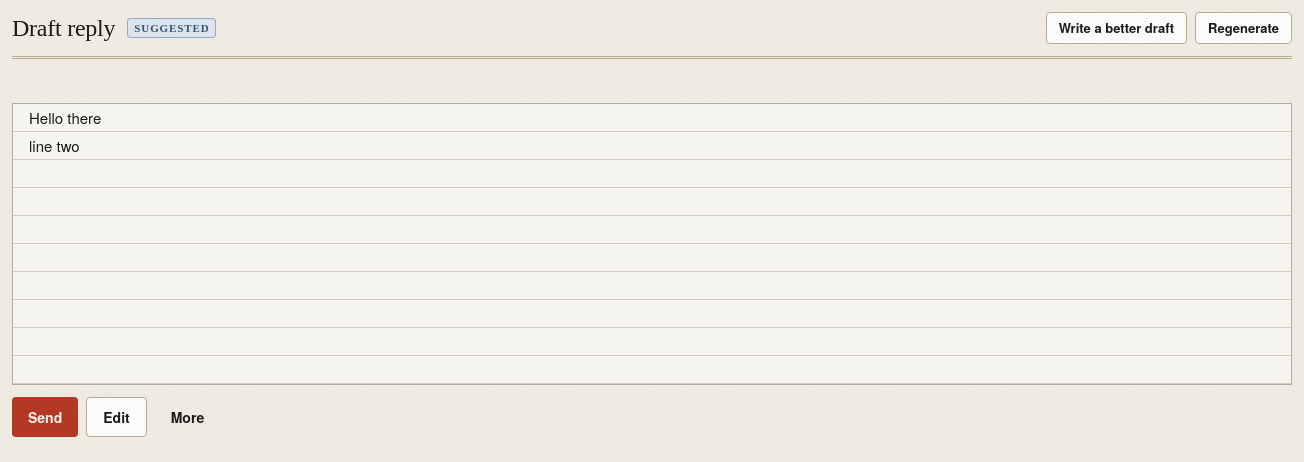
Test case: DraftPanel › send and undo › shows "Sending in 30 s · Undo" after sending, and Undo cancels it
The image size is (1304, 462).
Click the button "Send" at (45, 417), box [12,397,78,437]
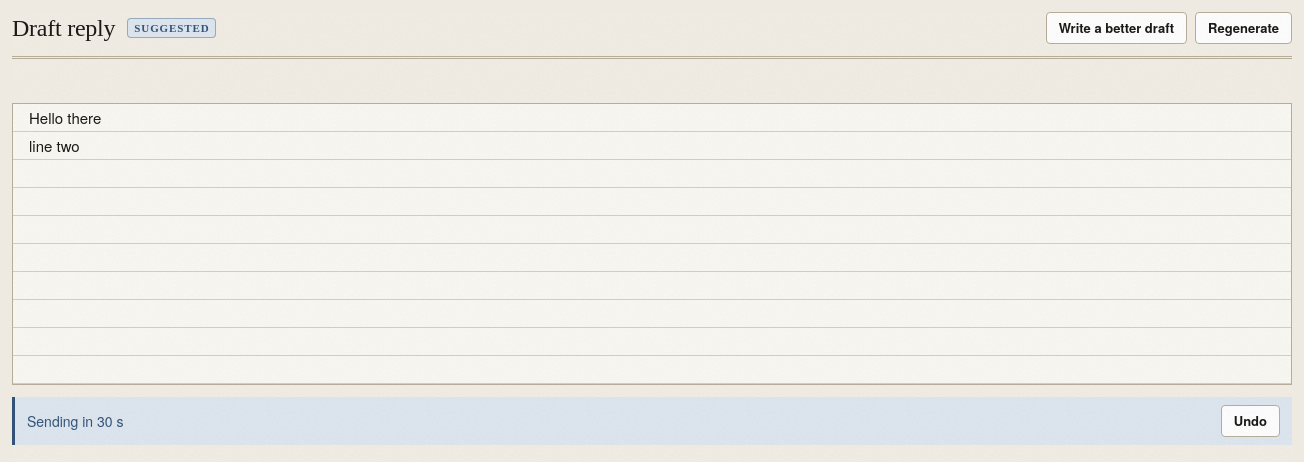
Expected: the text "Sending in 30 s" is shown, [27,411,124,431]
Click the button "Undo" at (1250, 421), box [1221,405,1280,437]
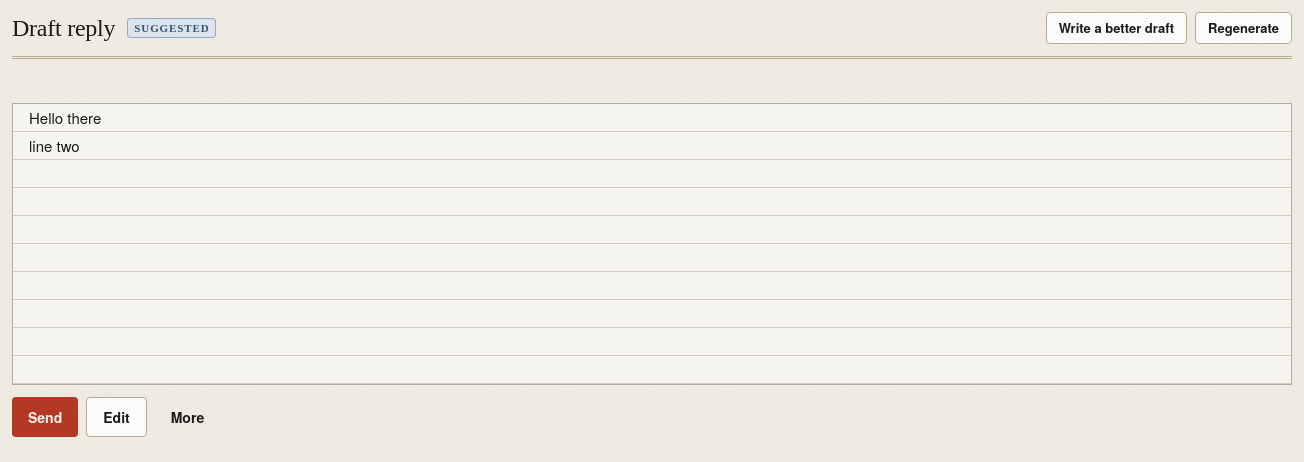
Expected: the button "Send" is enabled, [12,397,78,437]
Expected: the text "Sending in" is gone
